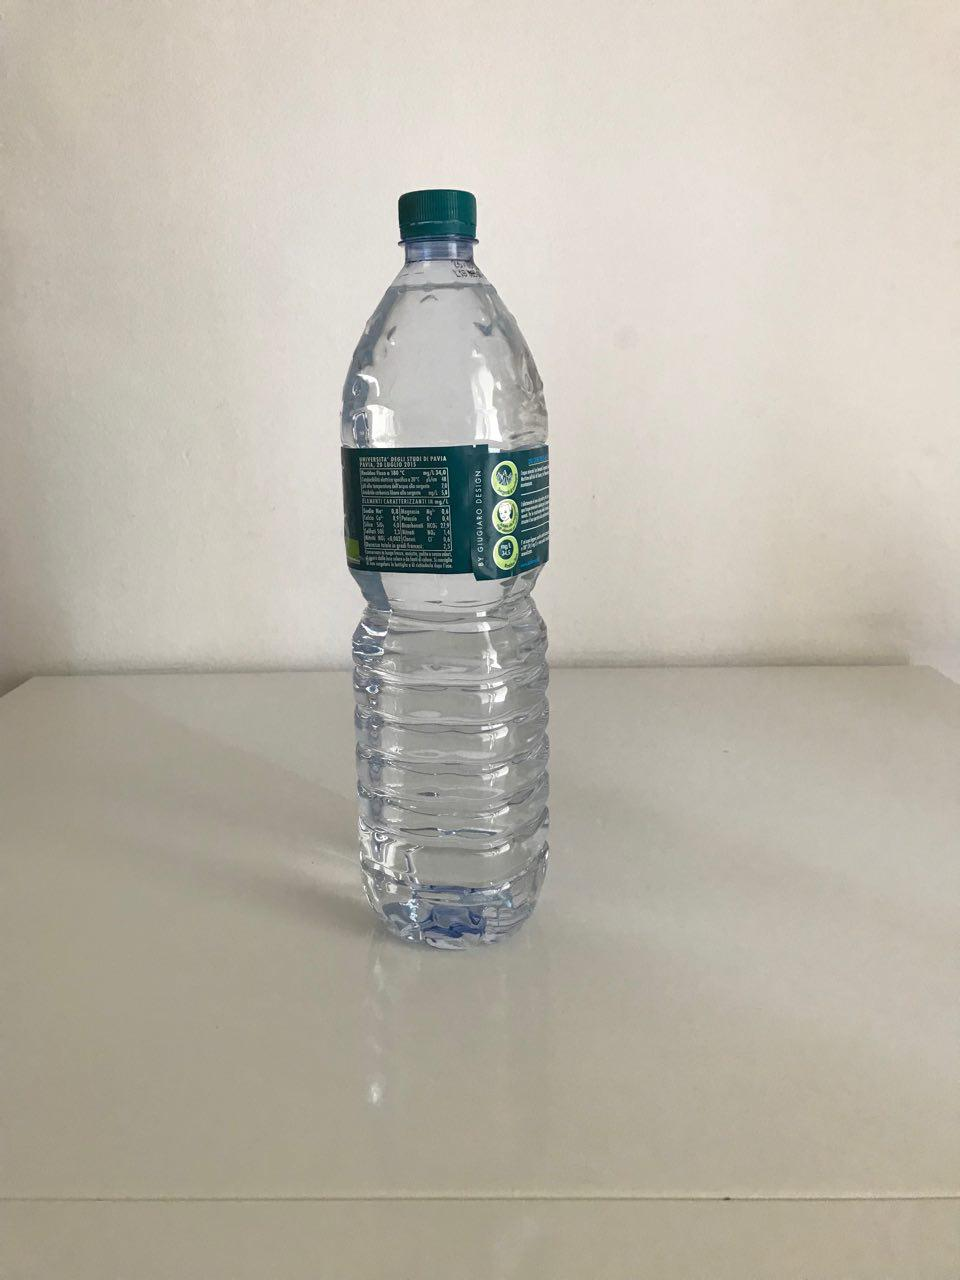san_bernardo: (336, 188, 554, 952)
